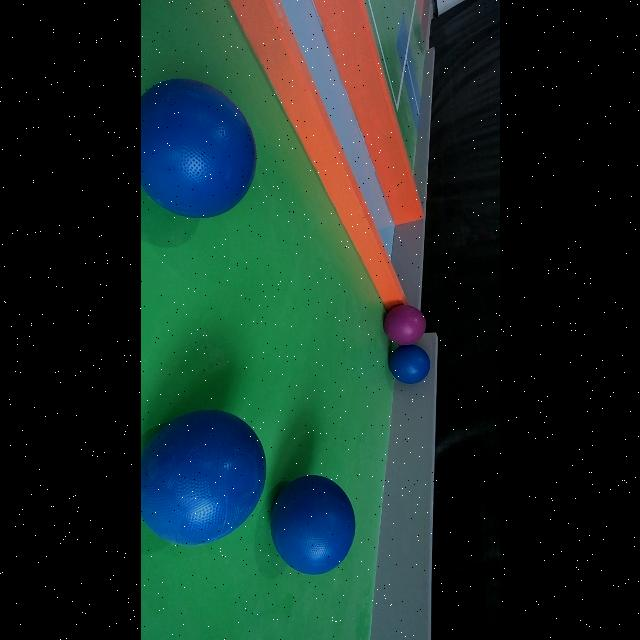B: (140, 410, 266, 546), (140, 79, 256, 219), (270, 473, 356, 575), (388, 344, 430, 384)
P: (384, 305, 426, 345)
